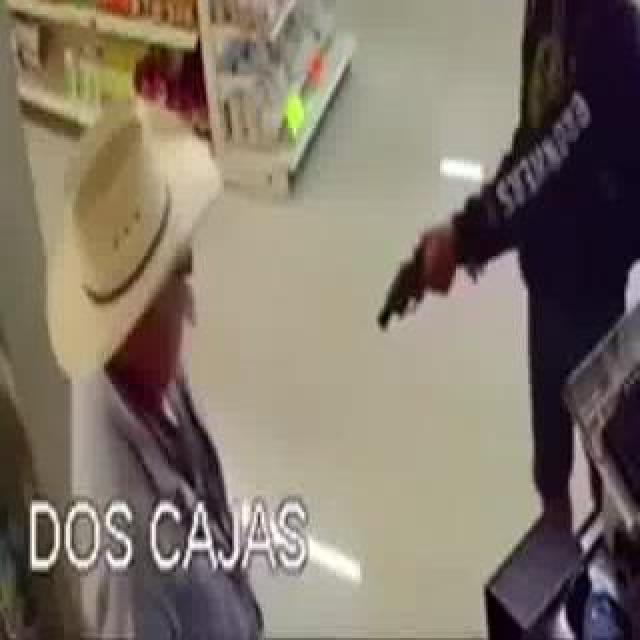Guns: (363, 235, 448, 344)
